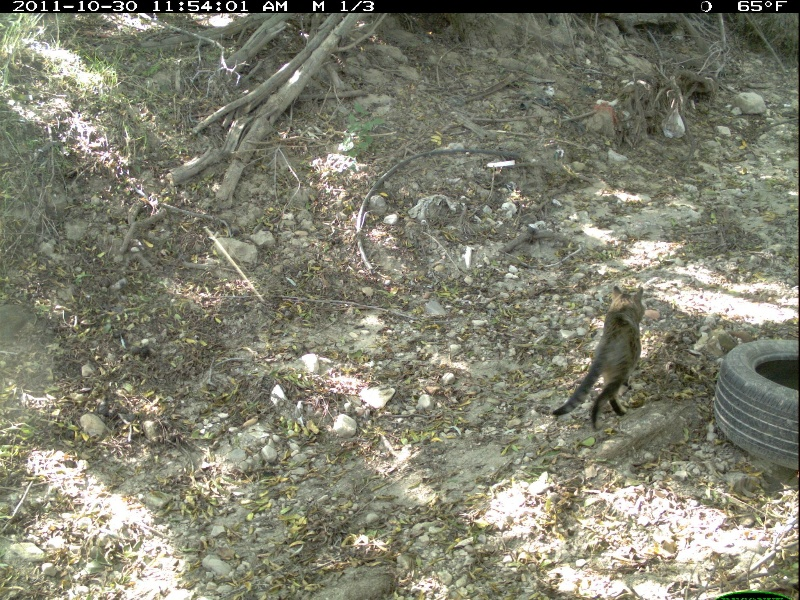cat: (549, 284, 647, 436)
